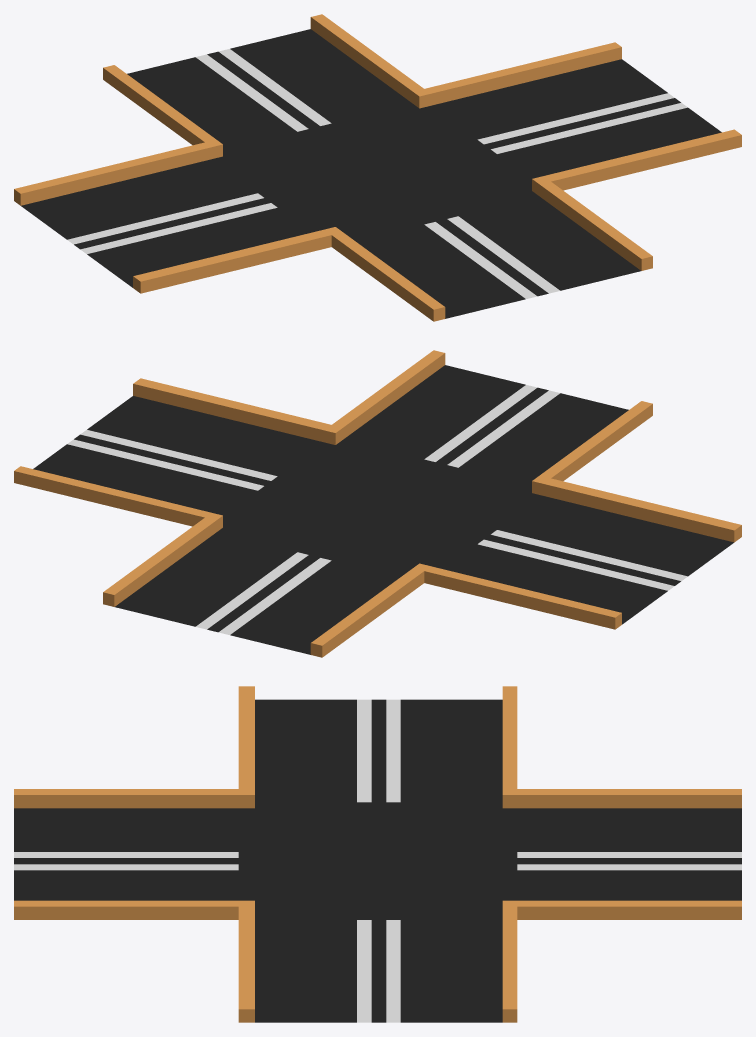
The model's file is Road_cross (1).fbx.
3 views of the same model, one above another, from view 1: azimuth 30°, elevation 25°; view 2: azimuth 150°, elevation 25°; view 3: azimuth 270°, elevation 25° (orthographic). The views are drawn at different scales.
Parts seen in each view (by area): view 1: RoadStraight.005; view 2: RoadStraight.005; view 3: RoadStraight.005.
Boxes of the visible parts, x1,y1,x2,y2 form: RoadStraight.005: [14, 14, 741, 321]; RoadStraight.005: [14, 350, 741, 657]; RoadStraight.005: [14, 686, 741, 1022].
Size of the model in its own units: 105 by 2 by 99.94.
